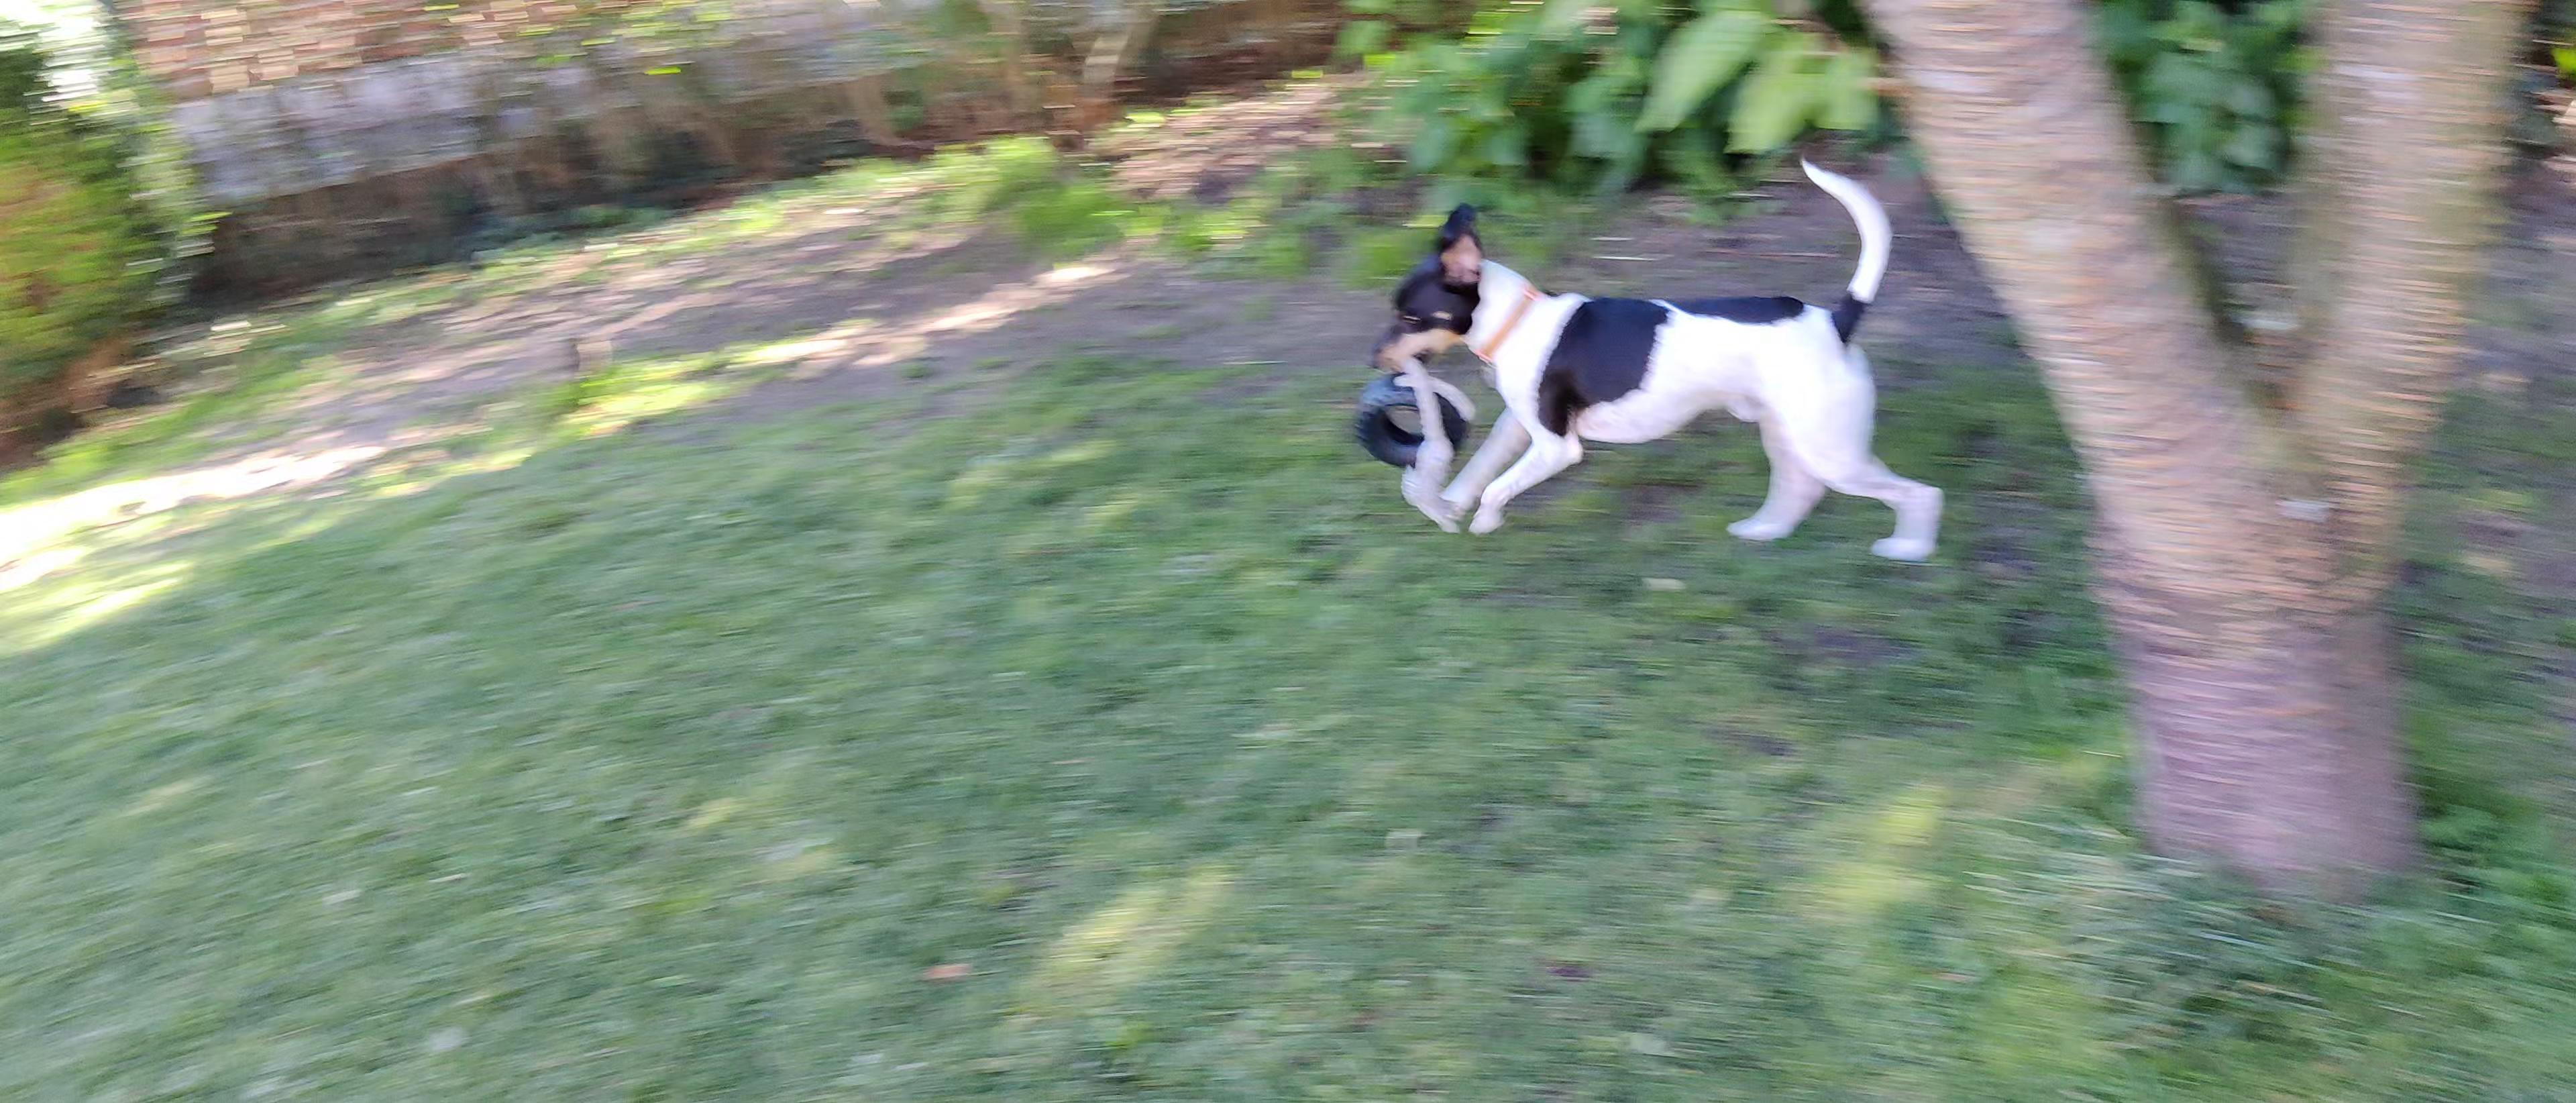Dog: (1364, 146, 1957, 569)
